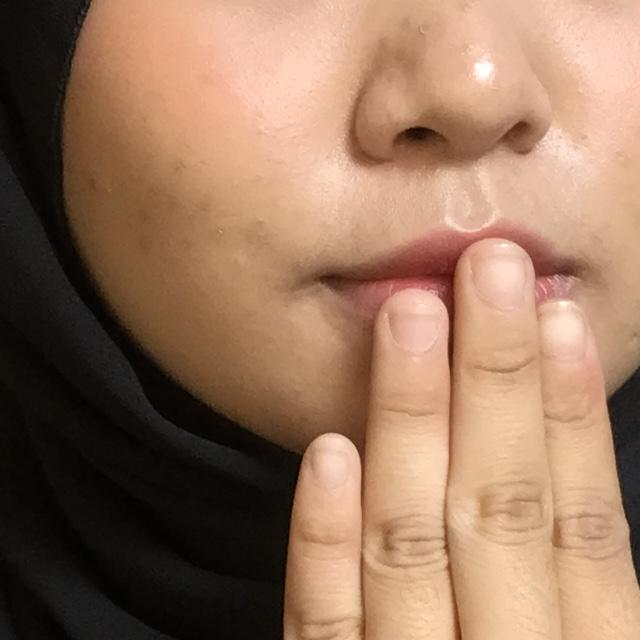ganteng: (180, 196, 640, 640)
